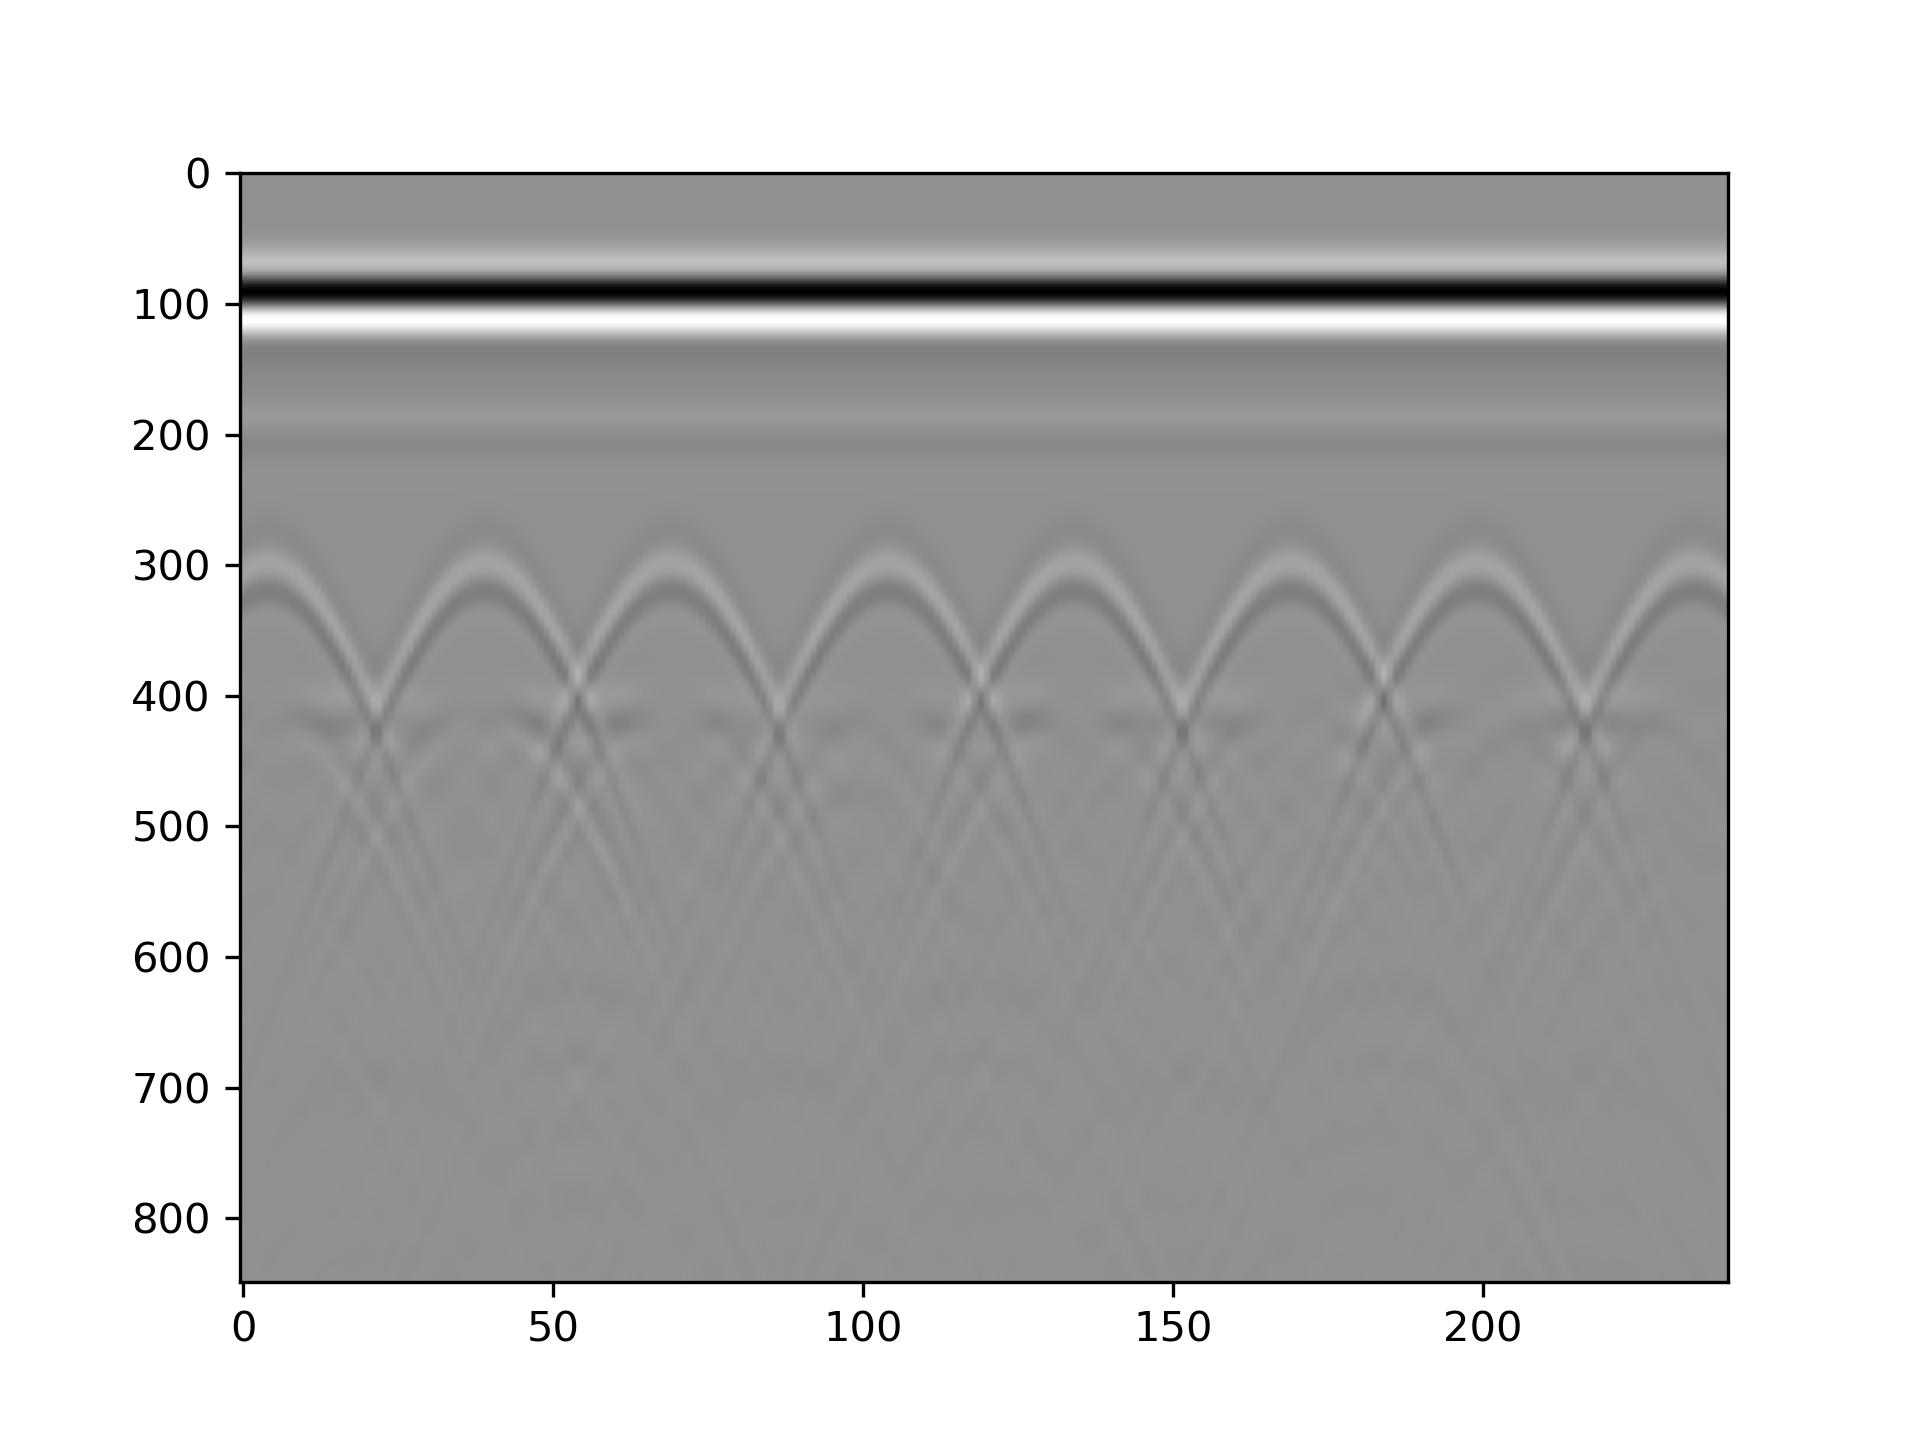钢筋: (1451, 552, 1503, 602), (262, 552, 311, 602), (475, 552, 525, 602), (658, 552, 708, 602), (872, 552, 922, 602), (1055, 552, 1105, 602), (1268, 552, 1318, 602), (1666, 552, 1716, 602)
